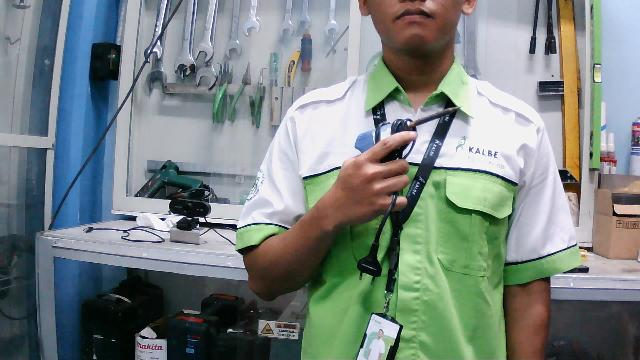solder_electrical: (347, 100, 467, 288)
